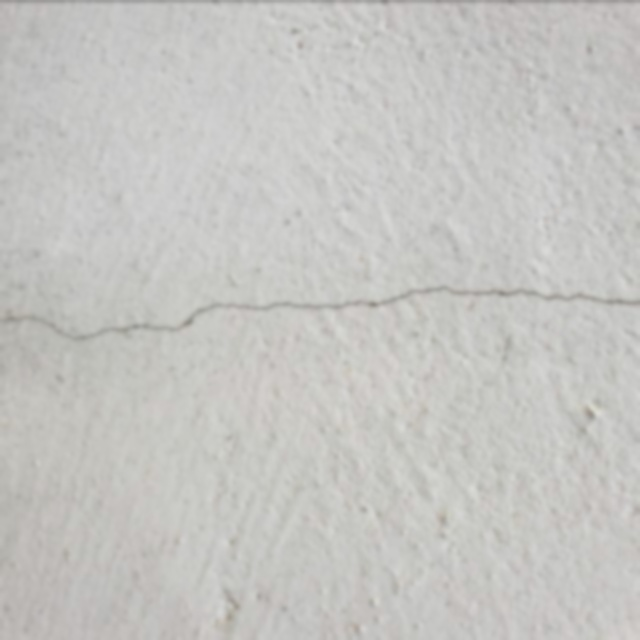SurfaceCrack: (1, 241, 639, 384)
